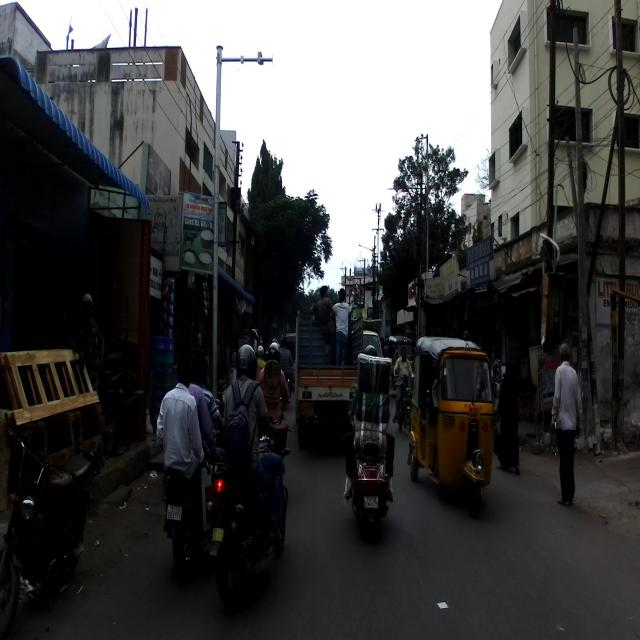autorickshaw: (408, 335, 496, 519)
motorcycle_Honda: (204, 420, 294, 614)
motorcycle_TVS: (0, 424, 105, 639)
scooter: (343, 405, 402, 542)
truck: (296, 301, 361, 459)
